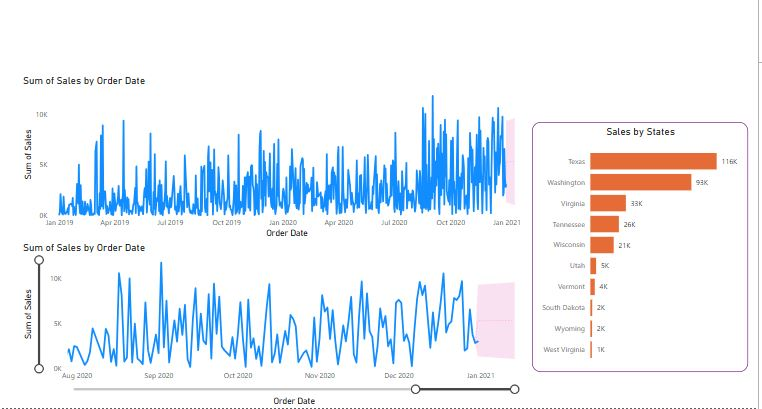

What the dashboard file says about the page in this screenshot:
{"tool":"powerbi","page":{"name":"Page 2","canvas":[1280,720],"ordinal":1},"visuals":[{"type":"lineChart","fields":{"Y":["Sum(SuperStore_Sales_Dataset.Sales)"],"Category":["SuperStore_Sales_Dataset.Order Date"]},"box":[40.3,159.6,860.1,280.5],"z":0},{"type":"clusteredBarChart","title":" Sales by States","fields":{"Category":["SuperStore_Sales_Dataset.State"],"Y":["Sum(SuperStore_Sales_Dataset.Sales)"]},"box":[900.4,240.2,362.8,419.9],"z":1000},{"type":"lineChart","fields":{"Y":["Sum(SuperStore_Sales_Dataset.Sales)"],"Category":["SuperStore_Sales_Dataset.Order Date"]},"box":[40.3,440.1,860.1,280.5],"z":2000}]}

Visuals, with their boxes on the page's 1280x720 design canvas (x1, y1, x2, y2). These are canvas units, not pixel positions in the 762x409 screenshot, which may show the page scaled, cropped or inside an application window:
lineChart - Sum(SuperStore_Sales_Dataset.Sales) x SuperStore_Sales_Dataset.Order Date: 40:160:900:440
" Sales by States" clusteredBarChart: 900:240:1263:660
lineChart - Sum(SuperStore_Sales_Dataset.Sales) x SuperStore_Sales_Dataset.Order Date: 40:440:900:721
